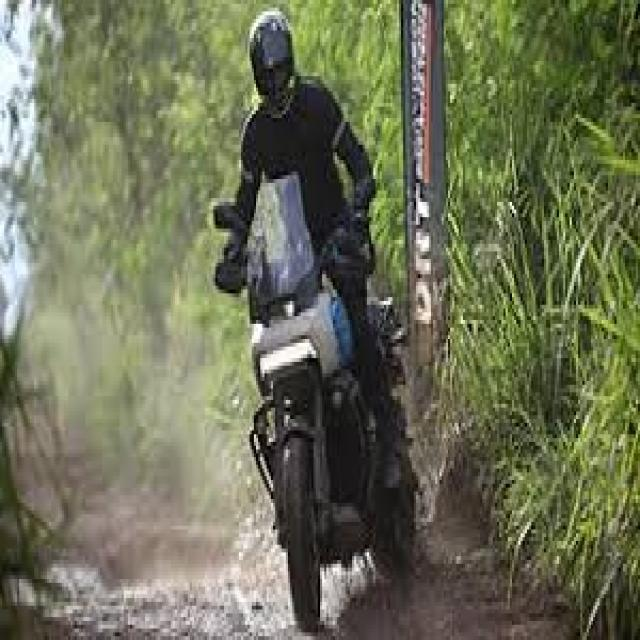Bike: (206, 184, 422, 610)
